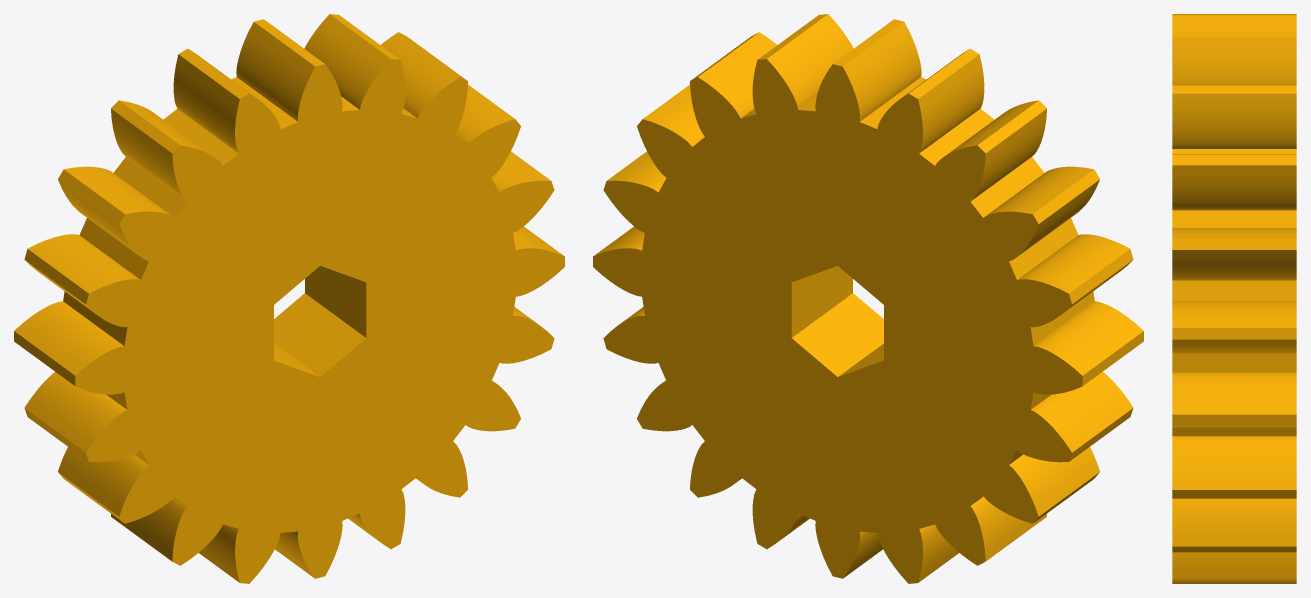
3 renders of one model, left to right at view 1: azimuth 30°, elevation 25°; view 2: azimuth 150°, elevation 25°; view 3: azimuth 270°, elevation 25°, orthographic.
Visible parts, largest first — view 1: Spur Gear; view 2: Spur Gear; view 3: Spur Gear.
Part boxes in pixels (x1,y1,x2,y2): Spur Gear: (14,14,564,583); Spur Gear: (593,14,1143,583); Spur Gear: (1172,14,1296,583).
Bounding box in the file's own units: 6.9 × 6.9 × 1.5.
